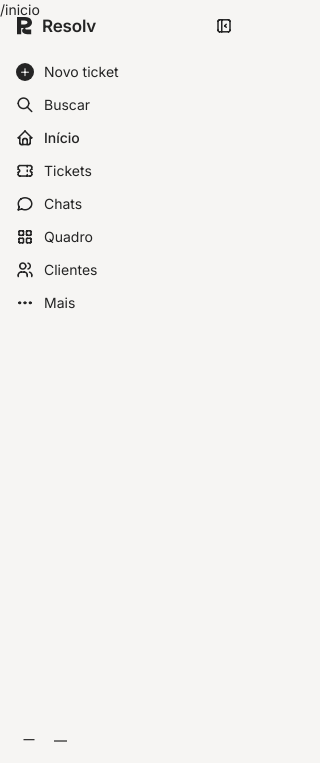
Sidebar — menu "Mais" › guarda os destinos secundários, fora da coluna
Check: the button "Configurações" is not shown
Click the button "Mais".
click(124, 303)  # box [8, 287, 240, 319]
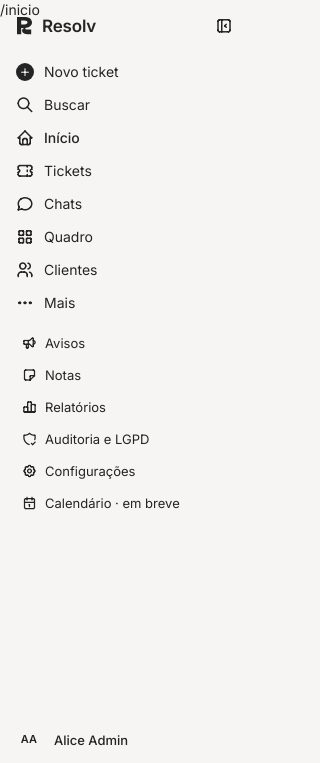
Check: the menu item "Avisos" is shown, box [12, 327, 204, 359]
Check: the menu item "Notas" is shown, box [12, 359, 204, 391]
Check: the menu item "Relatórios" is shown, box [12, 391, 204, 423]
